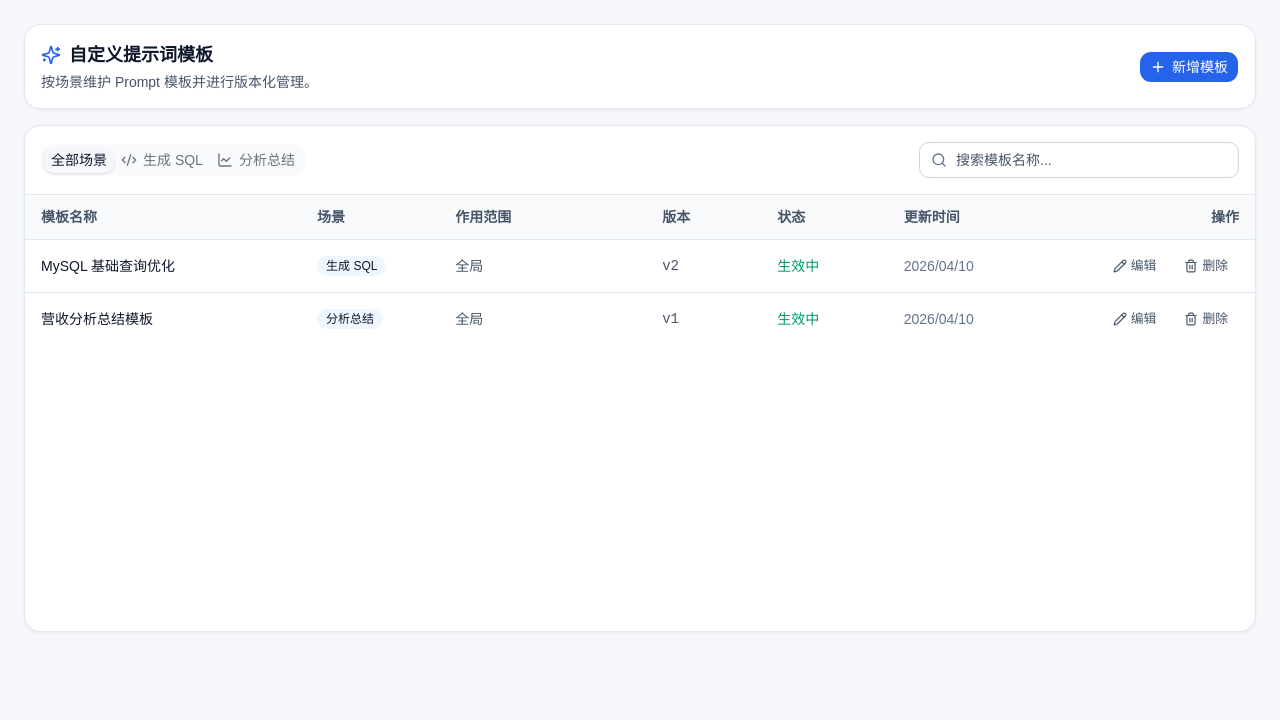
Test case: PromptsPage › shows minimal error message for FORBIDDEN
Expected: the text "MySQL 基础查询优化" is shown, [25,239,301,292]
Click the button "新增模板" at (1189, 66), box [1139,50,1239,82]
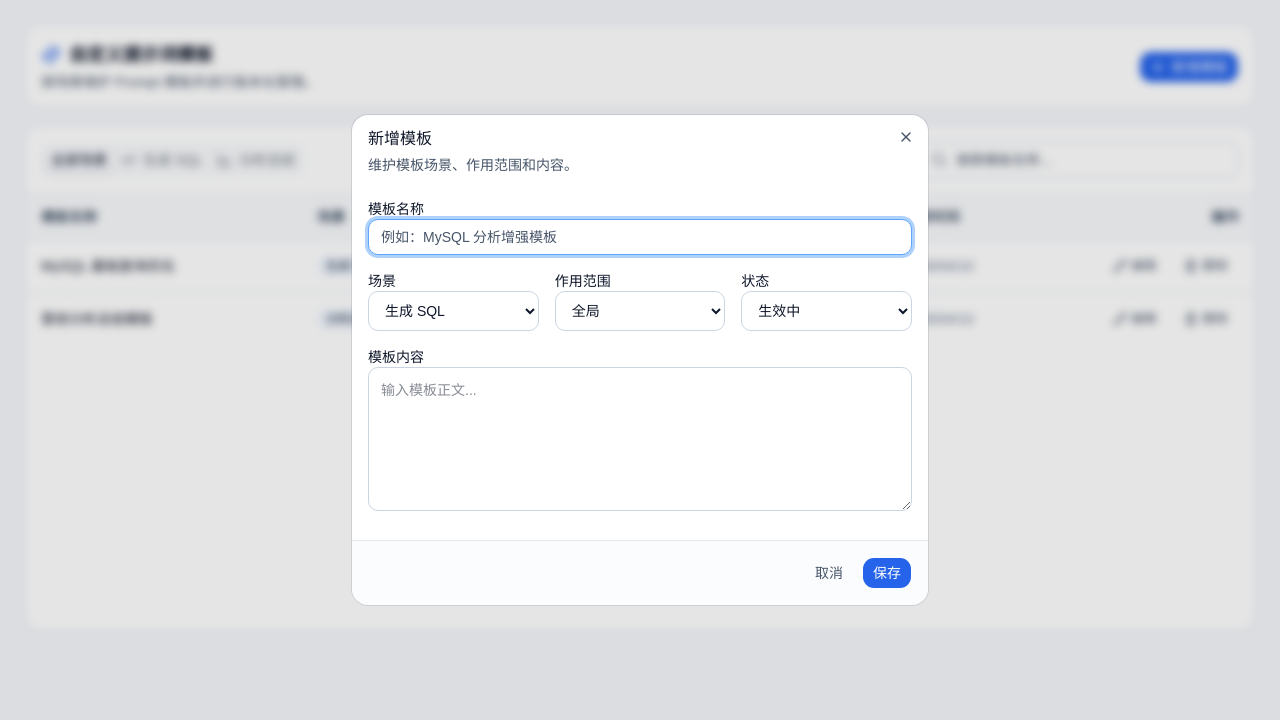
Type "失败模板" into the field labelled "模板名称" at (640, 237), box [368,219,912,255]
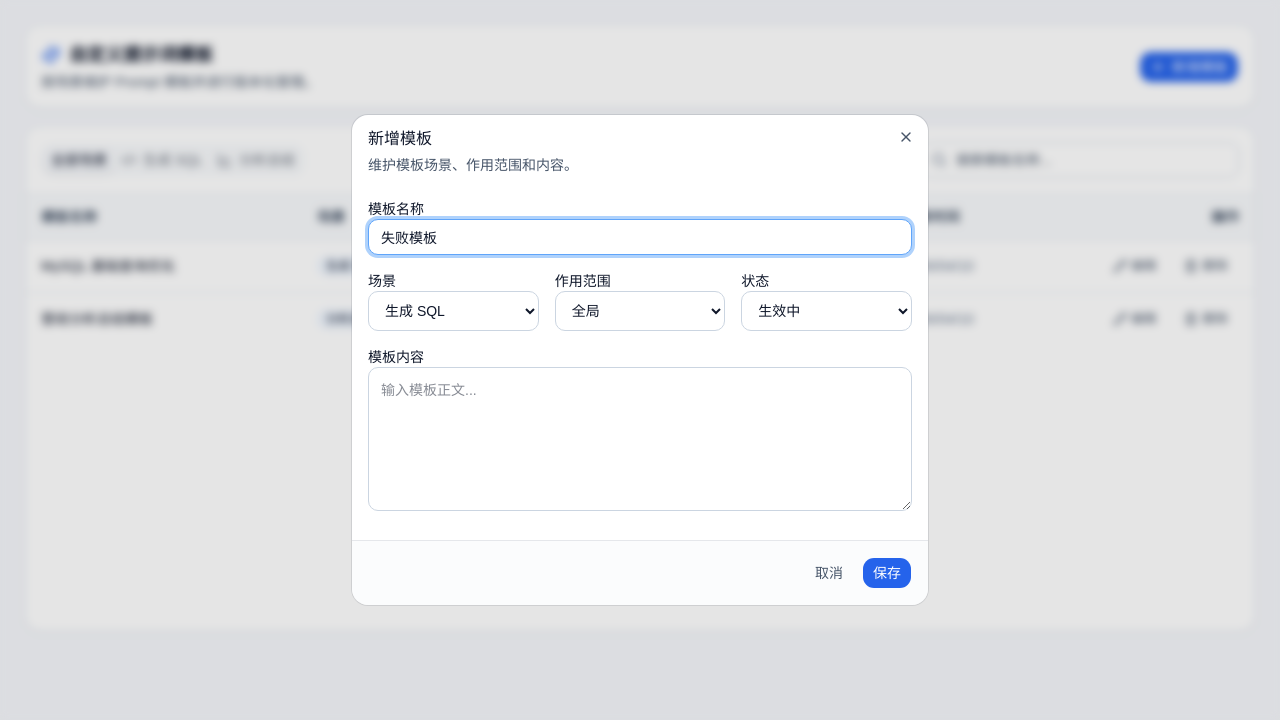
Type "prompt template body" into the text box labelled "模板内容" at (640, 439), box [368,367,912,511]
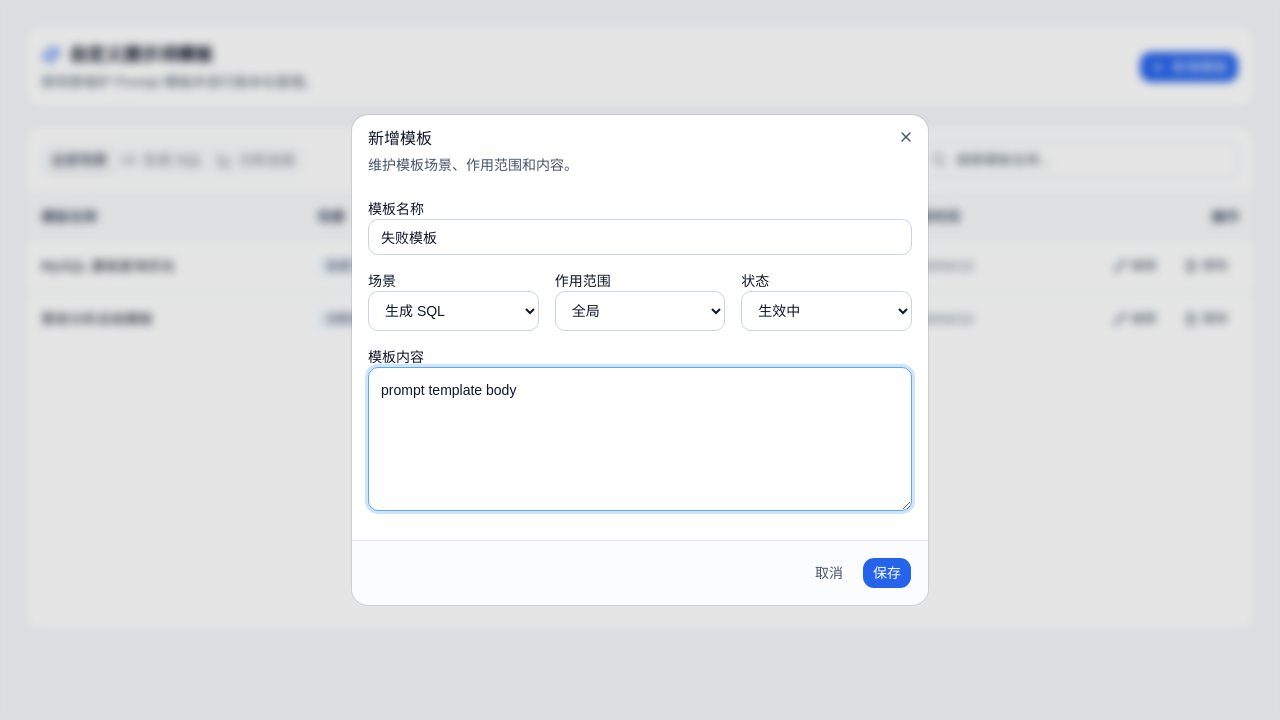
Click the button "保存" at (887, 573), box [862,557,912,589]
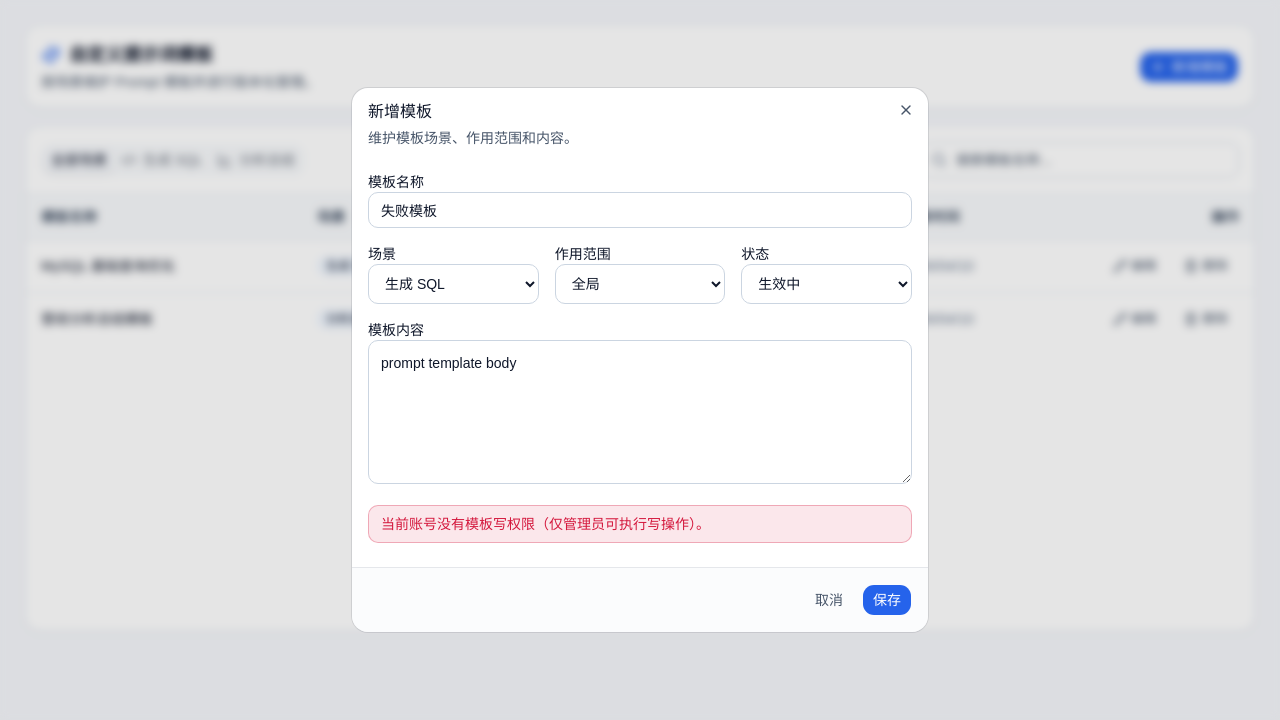
Expected: the text "当前账号没有模板写权限（仅管理员可执行写操作）。" is shown, [368,505,912,543]
